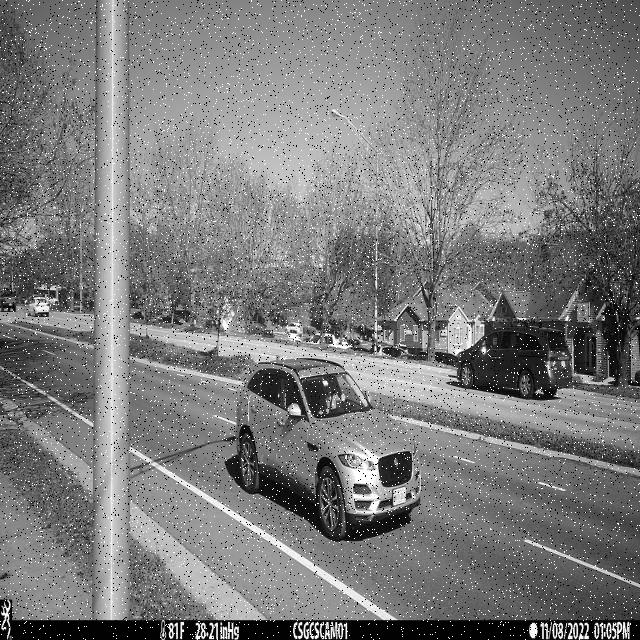SUV: (236, 354, 422, 542)
